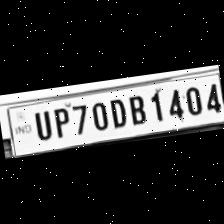0: (86, 99, 110, 134), (181, 83, 203, 116)
1: (145, 88, 166, 124)
4: (162, 84, 185, 120), (200, 79, 223, 113)
7: (68, 100, 90, 136)
B: (124, 92, 148, 127)
D: (106, 95, 128, 130)
P: (48, 103, 74, 139)
U: (28, 106, 54, 142)
